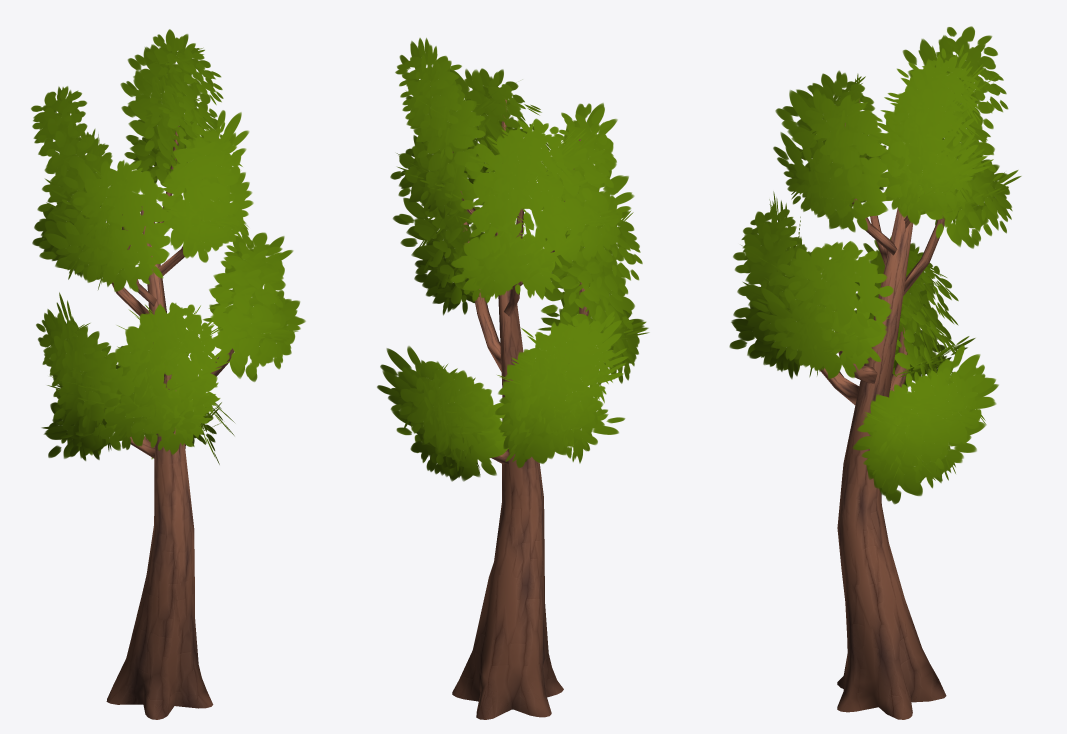
Rendered from tree-2.glb.
3 views of the same model, side by side, from view 1: azimuth 30°, elevation 25°; view 2: azimuth 150°, elevation 25°; view 3: azimuth 270°, elevation 25° (orthographic). The views are drawn at different scales.
Parts seen in each view (by area): view 1: CommonTree_3; view 2: CommonTree_3; view 3: CommonTree_3.
Part boxes in pixels (bbox=[...]): CommonTree_3: bbox=[31, 29, 305, 719]; CommonTree_3: bbox=[377, 38, 649, 719]; CommonTree_3: bbox=[729, 26, 1021, 719].
Size of the model in its own units: 4.06 by 9.43 by 4.24.
Materials: 2 (2 with a texture image).
